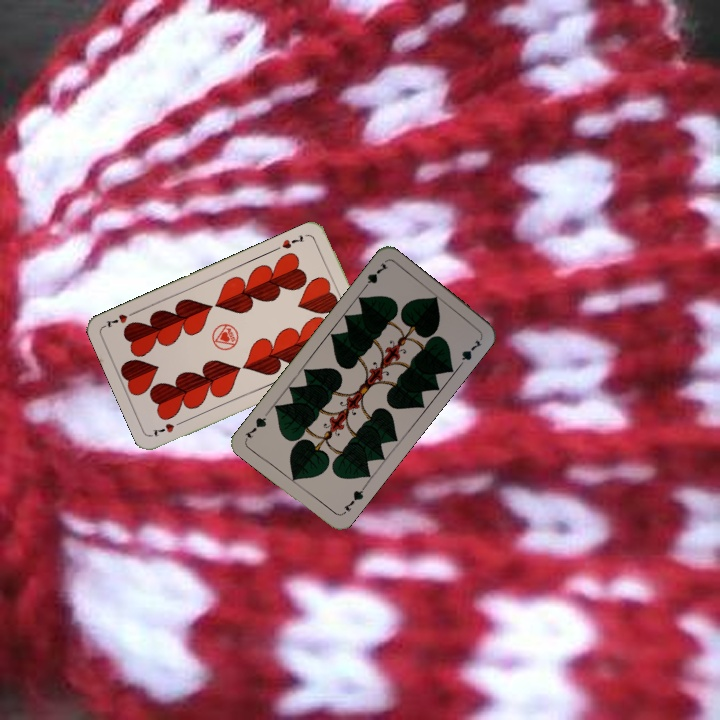G7: (358, 259, 391, 293), (338, 483, 368, 517)
H7: (148, 417, 187, 439), (278, 231, 307, 251)
